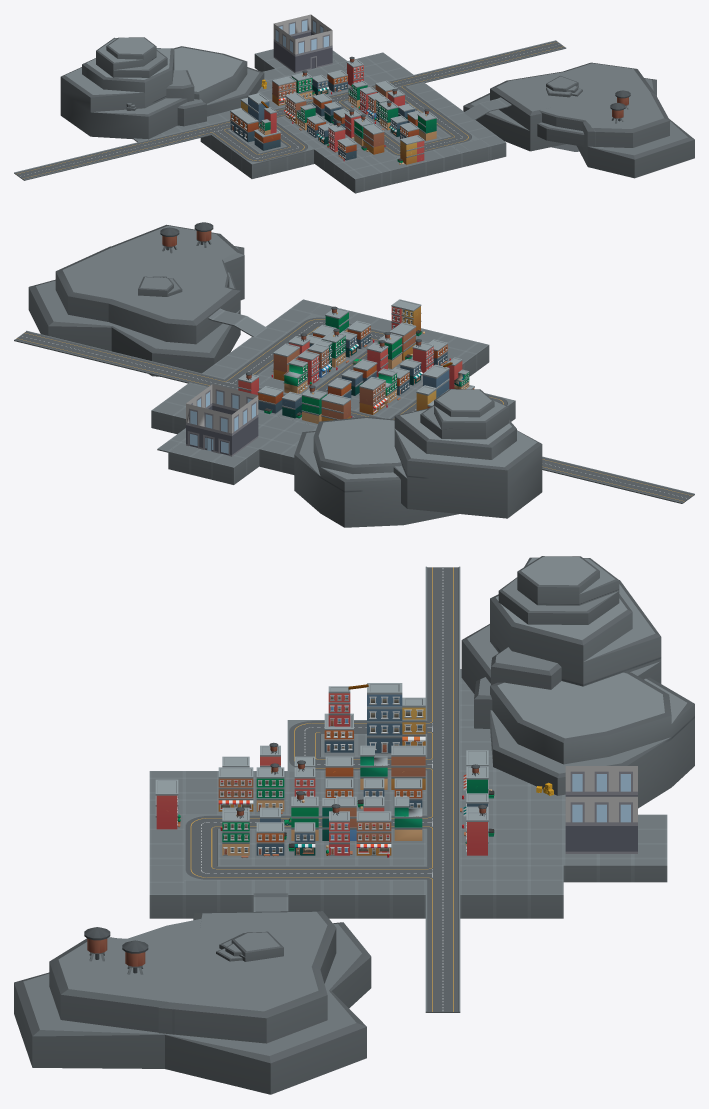
File: new_city_0915.fbx
3 renders of one model, top to bottom at view 1: azimuth 30°, elevation 25°; view 2: azimuth 150°, elevation 25°; view 3: azimuth 270°, elevation 25°, orthographic. The views are drawn at different scales.
Parts seen in each view (by area): view 1: Rock_1_C_Color1.002, Rock_1_D_Color1, Rock_1_G_Color1, skyscraperE, Rock_1_F_Color1, Rock_1_B_Color1, building_H, building_F, base.058, building_E, building_E.002, building_D.004 (+24 smaller); view 2: Rock_1_C_Color1.002, Rock_1_D_Color1, Rock_1_G_Color1, skyscraperE, Rock_1_F_Color1, building_H, building_E.004, base.070, building_D.006, Rock_1_C_Color1.001, building_F, building_D.003 (+18 smaller); view 3: Rock_1_C_Color1.002, Rock_1_G_Color1, Rock_1_D_Color1, Rock_1_F_Color1, skyscraperE, building_H, Rock_1_B_Color1, building_E.003, building_E, building_F, base.093, base.102 (+24 smaller).
Boxes of the visible parts, x1,y1,x2,y2 form: Rock_1_C_Color1.002: (463, 62, 694, 178); Rock_1_D_Color1: (60, 48, 187, 139); Rock_1_G_Color1: (174, 46, 264, 116); skyscraperE: (273, 14, 332, 73); Rock_1_F_Color1: (96, 37, 167, 77); Rock_1_B_Color1: (166, 70, 206, 126); building_H: (229, 93, 269, 142); building_F: (400, 135, 426, 167); base.058: (461, 139, 491, 167); building_E: (360, 123, 387, 154); building_E.002: (271, 76, 296, 107); building_D.004: (417, 109, 439, 140); Rock_1_C_Color1.002: (28, 224, 244, 376); Rock_1_D_Color1: (393, 408, 542, 518); Rock_1_G_Color1: (294, 417, 458, 527); skyscraperE: (186, 384, 258, 456); Rock_1_F_Color1: (420, 389, 508, 439); building_H: (416, 364, 449, 410); building_E.004: (355, 377, 389, 415); base.070: (212, 454, 246, 484); building_D.006: (297, 385, 327, 425); Rock_1_C_Color1.001: (138, 276, 182, 296); building_F: (391, 299, 423, 331); building_D.003: (282, 359, 309, 394); Rock_1_C_Color1.002: (14, 911, 371, 1094); Rock_1_G_Color1: (490, 672, 694, 808); Rock_1_D_Color1: (461, 580, 661, 693); Rock_1_F_Color1: (498, 556, 619, 624); skyscraperE: (565, 766, 637, 853); building_H: (367, 683, 425, 756); Rock_1_B_Color1: (474, 647, 561, 728); building_E.003: (356, 811, 391, 858); building_E: (218, 767, 253, 814); building_F: (149, 779, 184, 829); base.093: (356, 880, 391, 918); base.102: (494, 880, 529, 918).
Size of the model in its own units: 6601 by 1044 by 3947.
11 materials, 5 textured.
